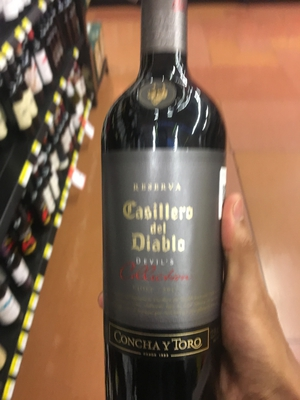casillero del diablo devils collection rojo: (102, 7, 229, 400)
